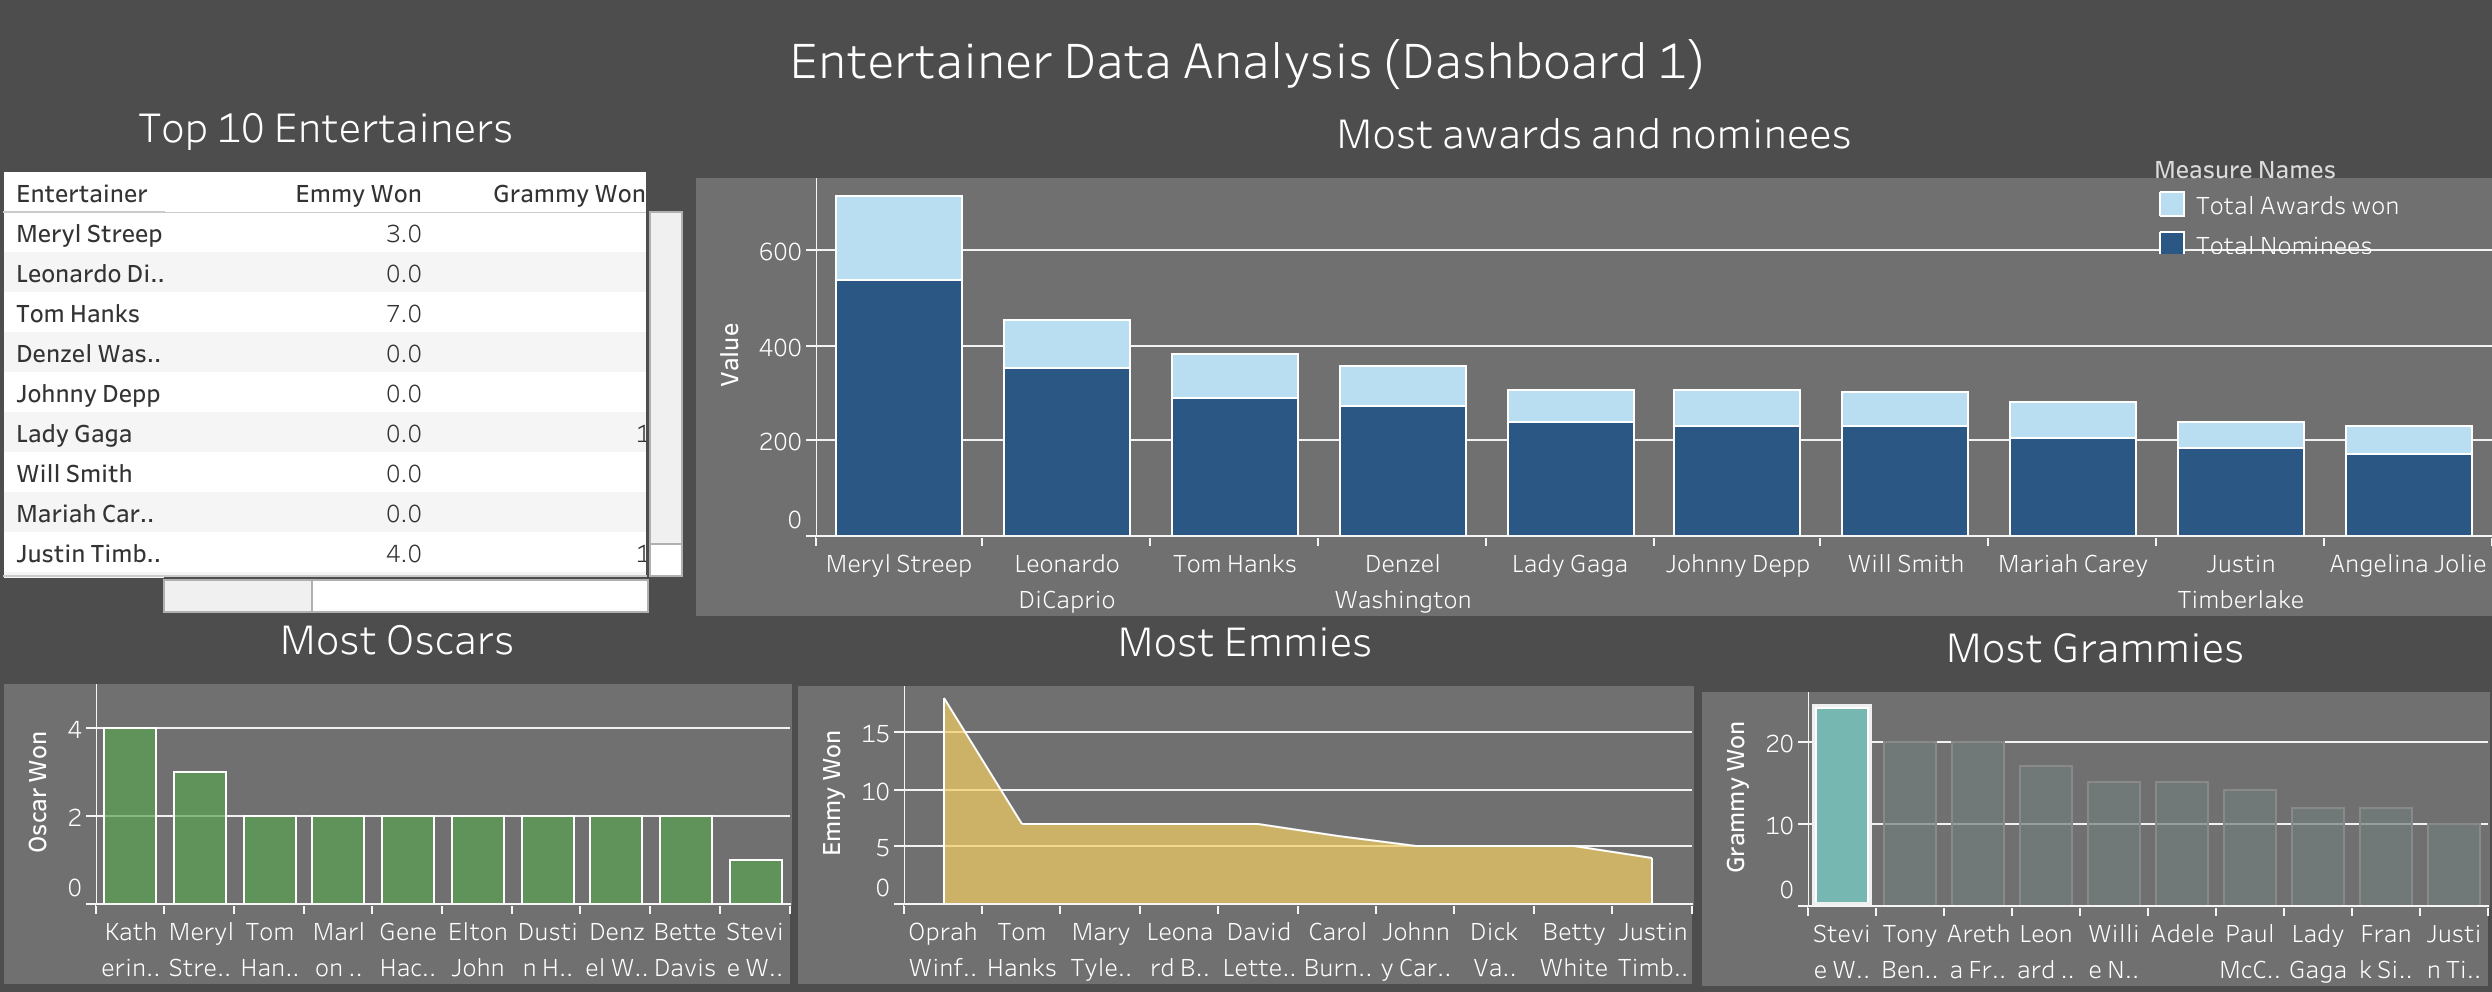

What the dashboard file says about the page in this screenshot:
{"tool":"tableau","page":{"name":"Entertainer Data Analysis (Dashboard 1)","canvas":[1000,1000],"units":"permille","ordinal":0},"visuals":[{"type":"title","box":[7.7,16.6,984.6,87.1]},{"type":"worksheet","title":"Top 10 Entertainers","mark":"Automatic","rows":["Entertainer"],"box":[1.8,87.4,272.6,529.7]},{"type":"worksheet","title":"Most Awards with nominees","mark":"Automatic","cols":["Entertainer"],"box":[278.9,92.9,720.2,526]},{"type":"legend","title":"Most Awards with nominees","param":"[federated.1k79tio02qexqw12ps8l21weftr1].[:Measure Names]","box":[863.2,146.8,124.3,107.8]},{"type":"worksheet","title":"Most Oscars","mark":"Automatic","rows":["Oscar Won"],"cols":["Entertainer"],"box":[1.8,602.2,315.3,388.5]},{"type":"worksheet","title":"Most Emmies","mark":"Area","rows":["Emmy Won"],"cols":["Entertainer"],"box":[319.7,604.1,358.8,386.6]},{"type":"worksheet","title":"Most Grammies","mark":"Automatic","rows":["Grammy Won"],"cols":["Entertainer"],"box":[682.1,609.7,315.3,382.9]}]}

Visuals, with their boxes on the dashboard's canvas, which has no fixed pixel size, in thousandths of its width and height (x1, y1, x2, y2). These are canvas units, not pixel positions in the 2492x992 screenshot, which may show the page scaled, cropped or inside an application window:
title: <region>8, 17, 992, 104</region>
"Top 10 Entertainers" worksheet: <region>2, 87, 274, 617</region>
"Most Awards with nominees" worksheet: <region>279, 93, 999, 619</region>
"Most Awards with nominees" legend: <region>863, 147, 988, 255</region>
"Most Oscars" worksheet: <region>2, 602, 317, 991</region>
"Most Emmies" worksheet (Area marks): <region>320, 604, 678, 991</region>
"Most Grammies" worksheet: <region>682, 610, 997, 993</region>
